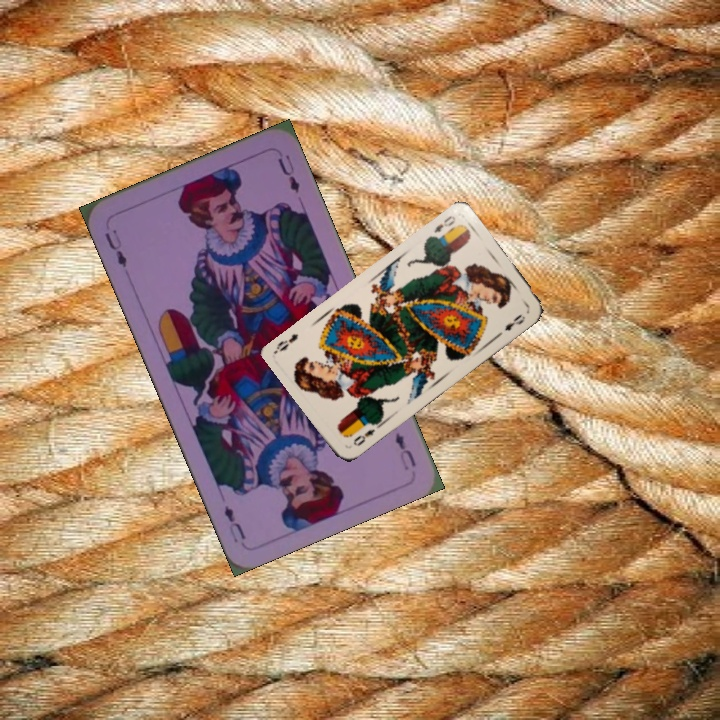EO: (429, 211, 458, 236), (349, 425, 378, 449)
EU: (101, 225, 130, 270), (391, 428, 419, 473)
